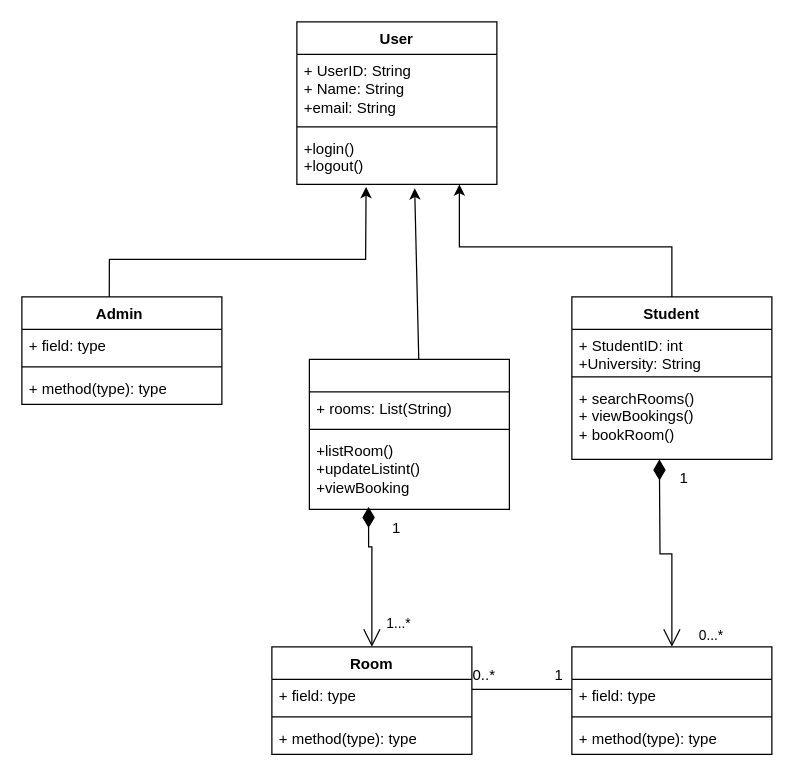
This 794x780 diagram has some shape labels left out. The box of each missing label's shape, as (x1, y1, x2, y2) in pixels:
Booking: (571, 646, 772, 754)
HomeOwner: (308, 358, 509, 509)
